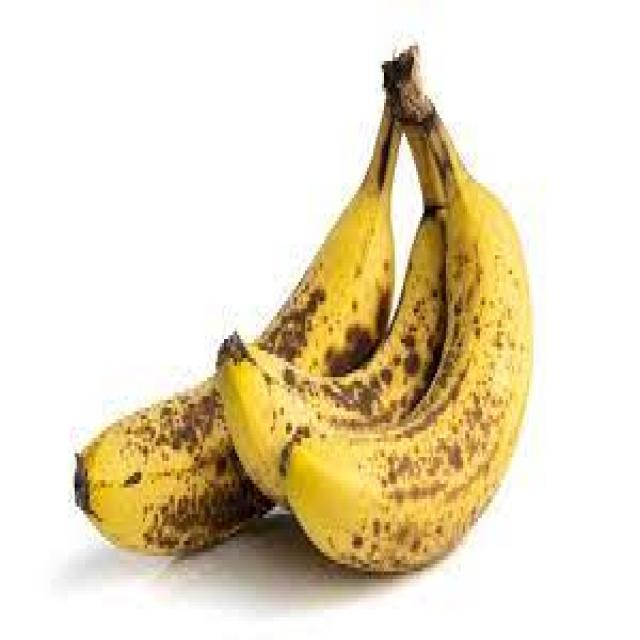banana: (72, 88, 403, 557), (278, 106, 533, 569), (216, 136, 449, 506)
